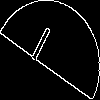I: (25, 25, 54, 71)
